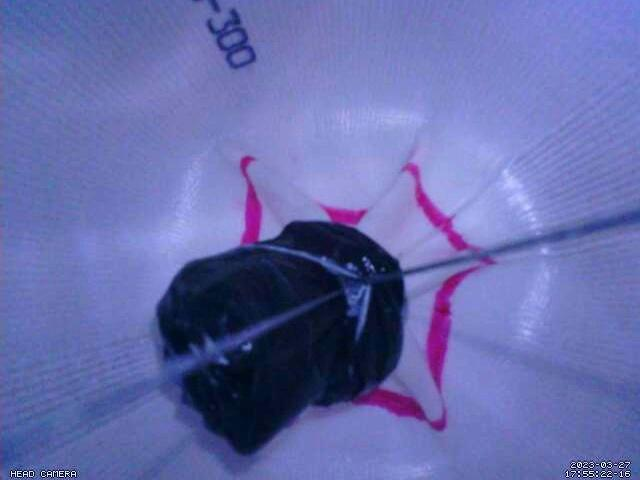red-circle: (239, 155, 493, 431)
